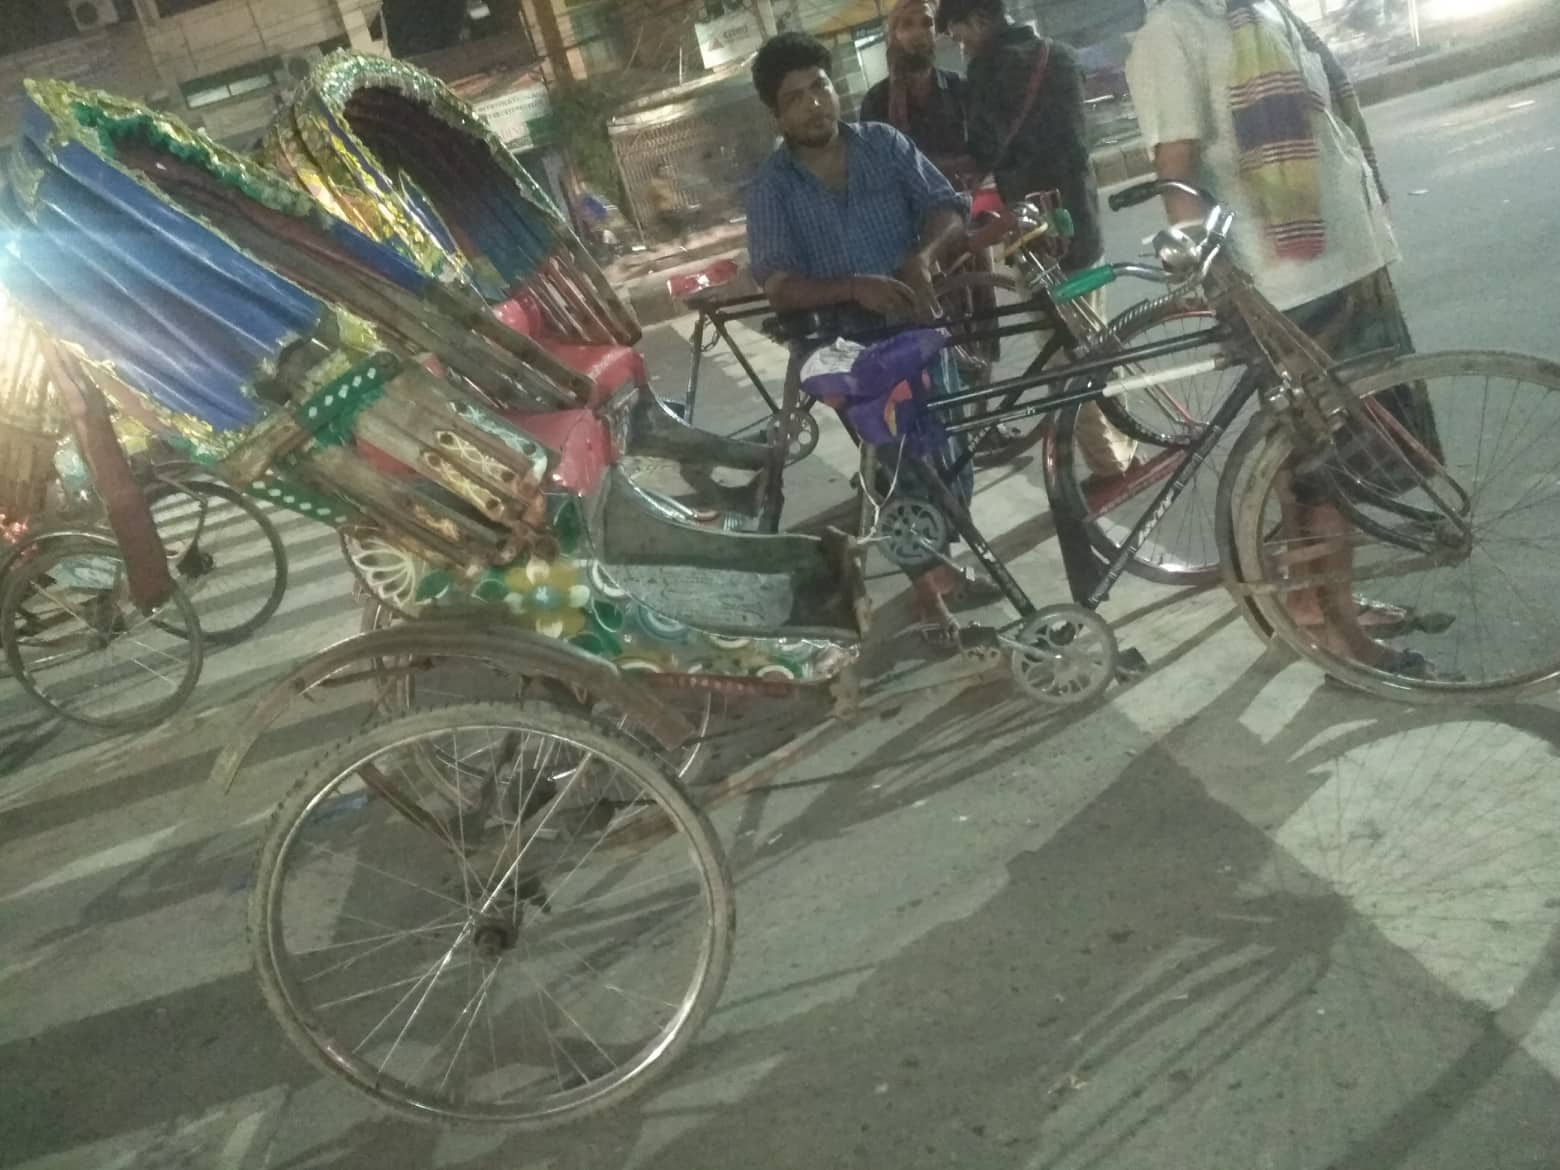Rickshaw: (9, 75, 1549, 1018), (240, 33, 852, 543)
